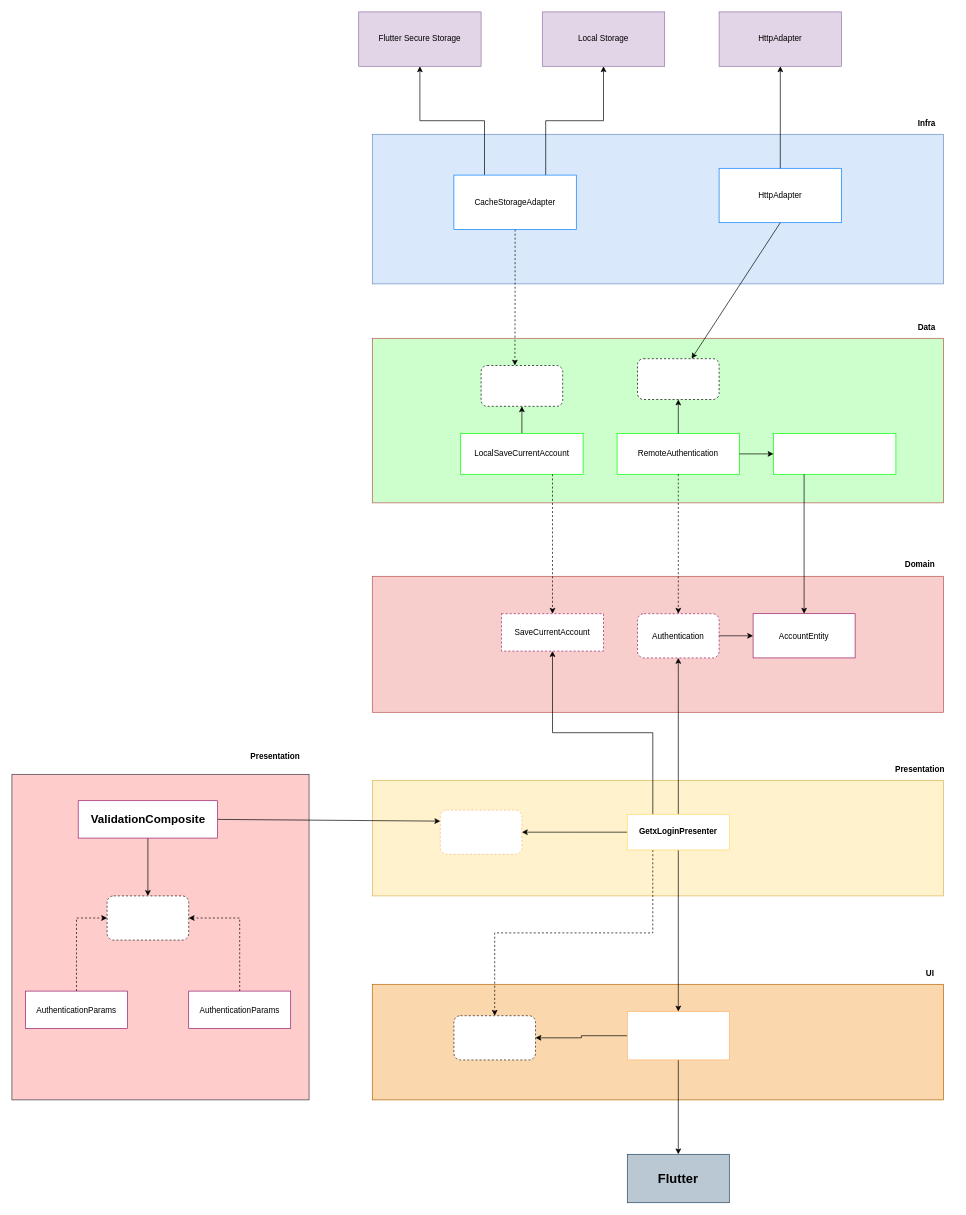
Some shapes in this 966 by 1215 pixel diagram are drawn without their labels. Here are the shapes that lost their labels. From the top down, the centre of each, then its label:
the point at 521,385: CachedStorage
the point at 678,379: HttpClient
the point at 834,453: RemoteAccountModel
the point at 481,831: Validation
the point at 147,917: FieldValidation
the point at 494,1037: LoginPresenter
the point at 678,1035: LoginPage
